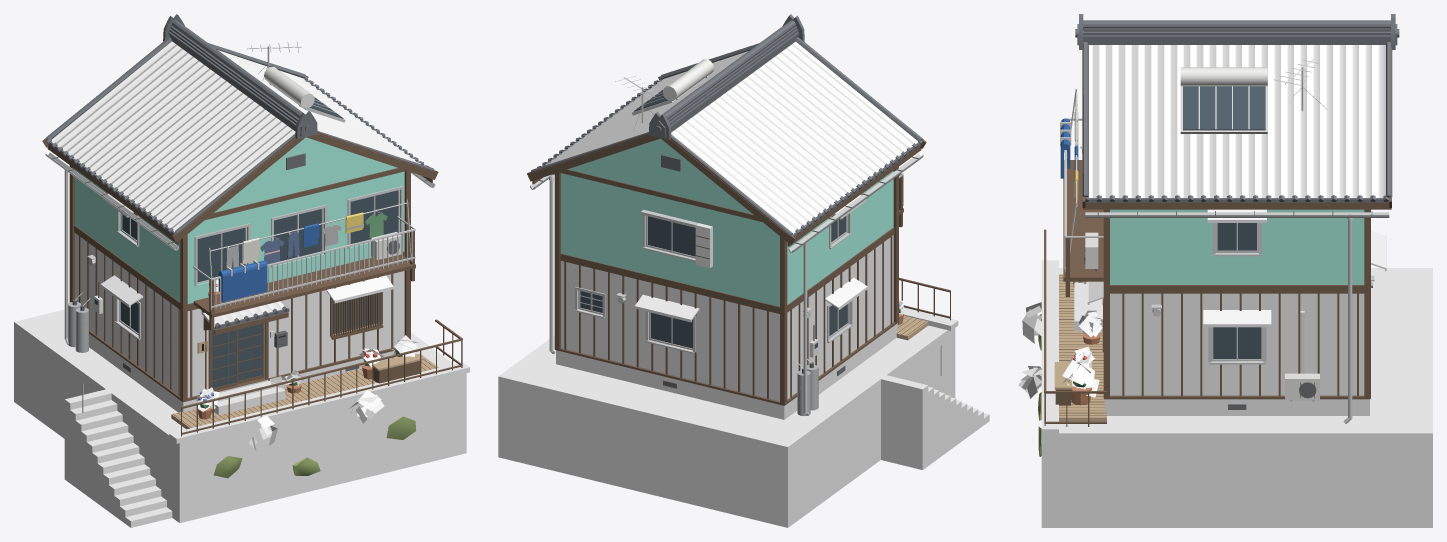
File: house_hillside.glb
3 renders of one model, left to right at view 1: azimuth 30°, elevation 25°; view 2: azimuth 150°, elevation 25°; view 3: azimuth 270°, elevation 25°, orthographic. The views are drawn at different scales.
Parts seen in each view (by area): view 1: house_hillside_body; view 2: house_hillside_body; view 3: house_hillside_body.
Part boxes in pixels (x1=…): house_hillside_body: x1=14, y1=14, x2=469, y2=527; house_hillside_body: x1=498, y1=14, x2=989, y2=527; house_hillside_body: x1=1018, y1=14, x2=1432, y2=527.
Size of what is drawn, in the model's own units: 10.41 by 10.9 by 9.54.
